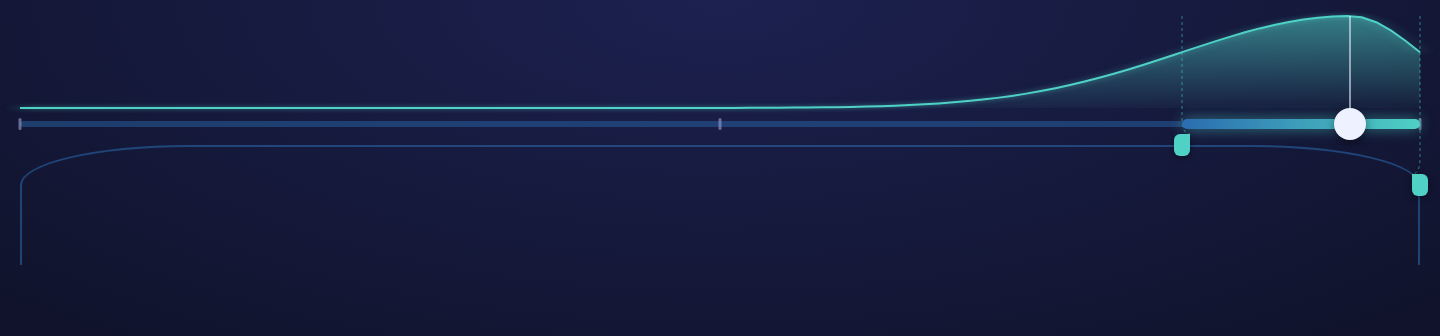
Test: WaveSlider — pointer › pushes a σ handle past the wall by dragging down the wall-drop
Press the mouse on the slider named "right spread" at (1420, 185), box [1412,174,1428,196]
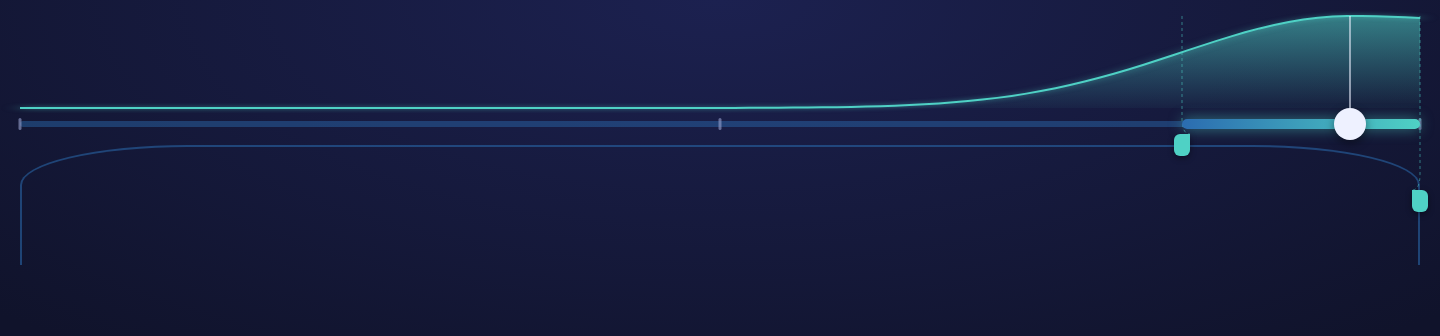
Now the slider named "right spread" has attribute data-offscale="true", box [1412,190,1428,212]
